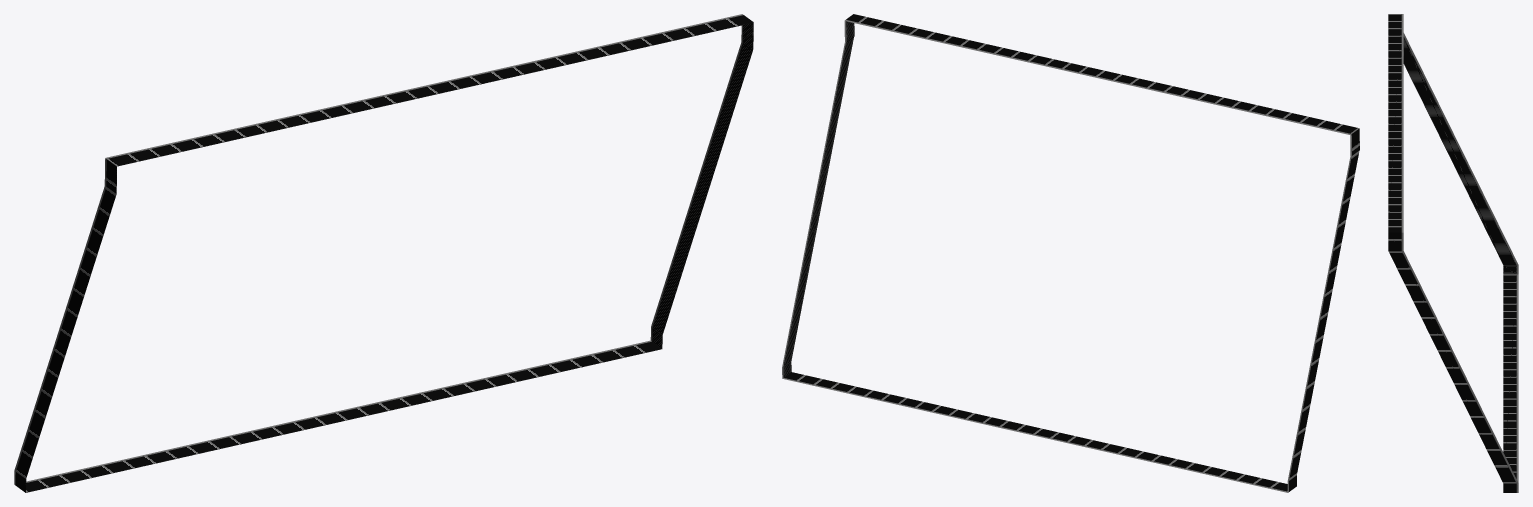
The model's file is _0TRIBUENE_02_022_SUB0.obj.
3 views of the same model, side by side, from view 1: azimuth 30°, elevation 25°; view 2: azimuth 150°, elevation 25°; view 3: azimuth 270°, elevation 25° (orthographic). The views are drawn at different scales.
Parts seen in each view (by area): view 1: _0TRIBUENE_02_022_SUB0_Scene.179; view 2: _0TRIBUENE_02_022_SUB0_Scene.179; view 3: _0TRIBUENE_02_022_SUB0_Scene.179.
Part boxes in pixels (left/top/right/bottom): _0TRIBUENE_02_022_SUB0_Scene.179: left=14, top=14, right=753, bottom=492; _0TRIBUENE_02_022_SUB0_Scene.179: left=782, top=14, right=1359, bottom=492; _0TRIBUENE_02_022_SUB0_Scene.179: left=1388, top=14, right=1518, bottom=492.
Size of the model in its own units: 4906 by 2908 by 1272.
